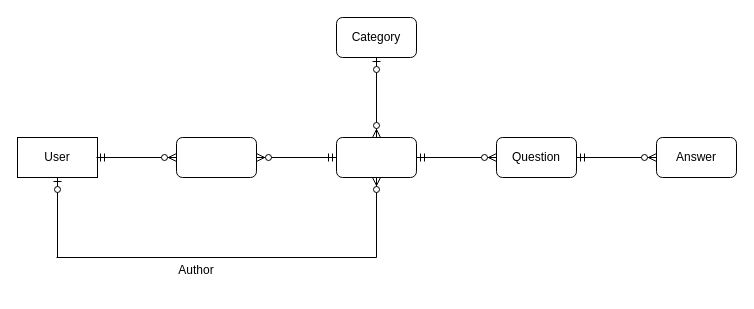
Some shapes in this 754 by 309 pixel diagram are drawn without their labels. Here are the shapes that lost their labels. From the top down, the box of each, then its label:
(176, 136, 256, 178): Result
(336, 136, 416, 178): Test
